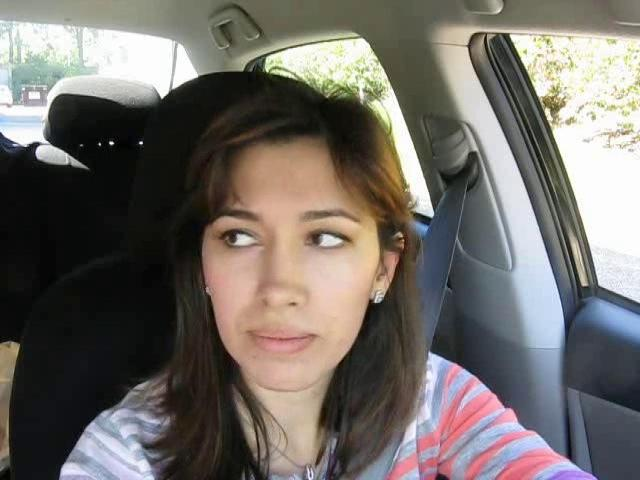eye_open: (300, 224, 355, 259), (212, 223, 260, 255)
face: (206, 184, 375, 392)
